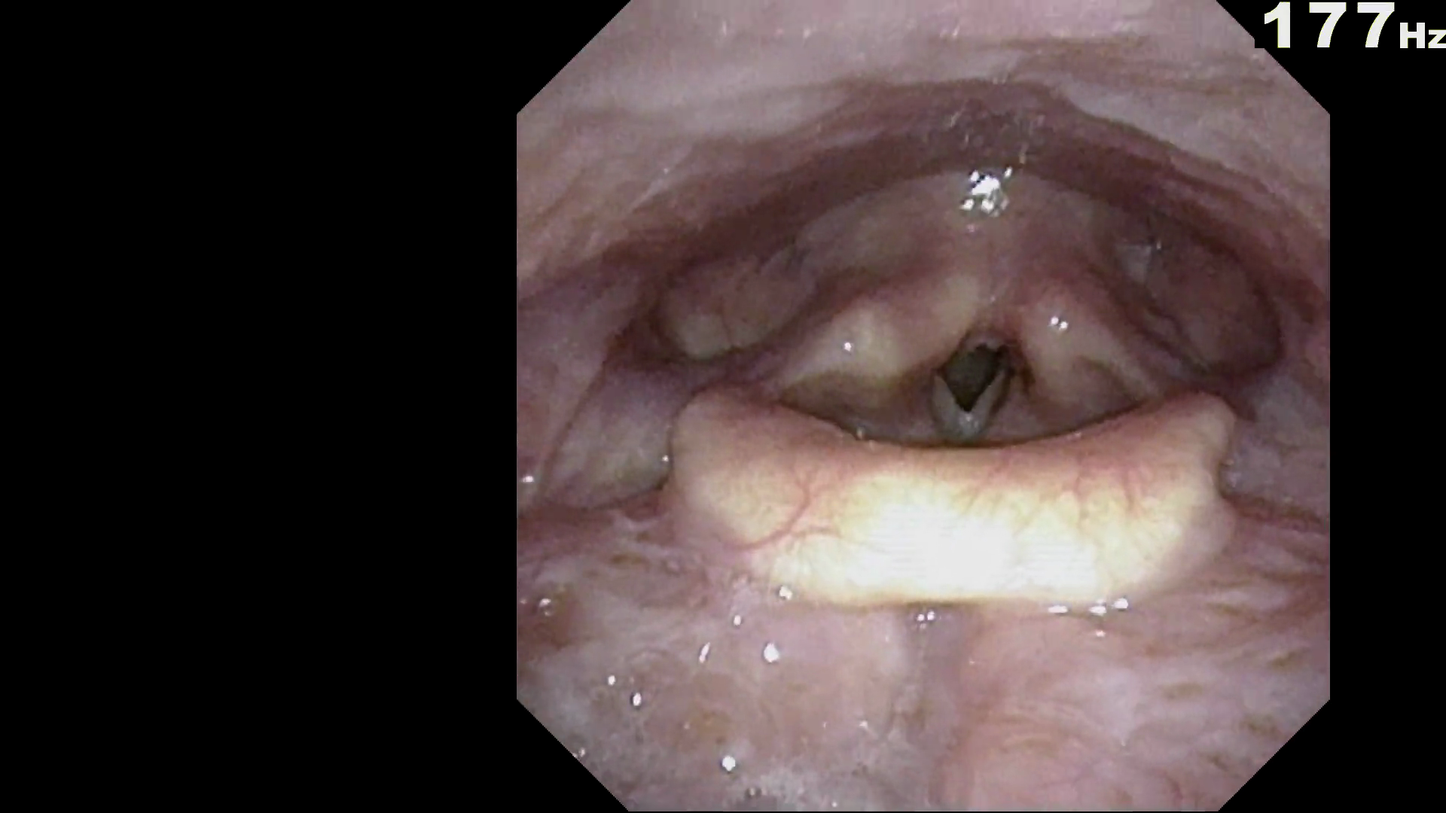epiglottis: (652, 364, 1248, 633)
trachea: (926, 322, 1017, 445)
